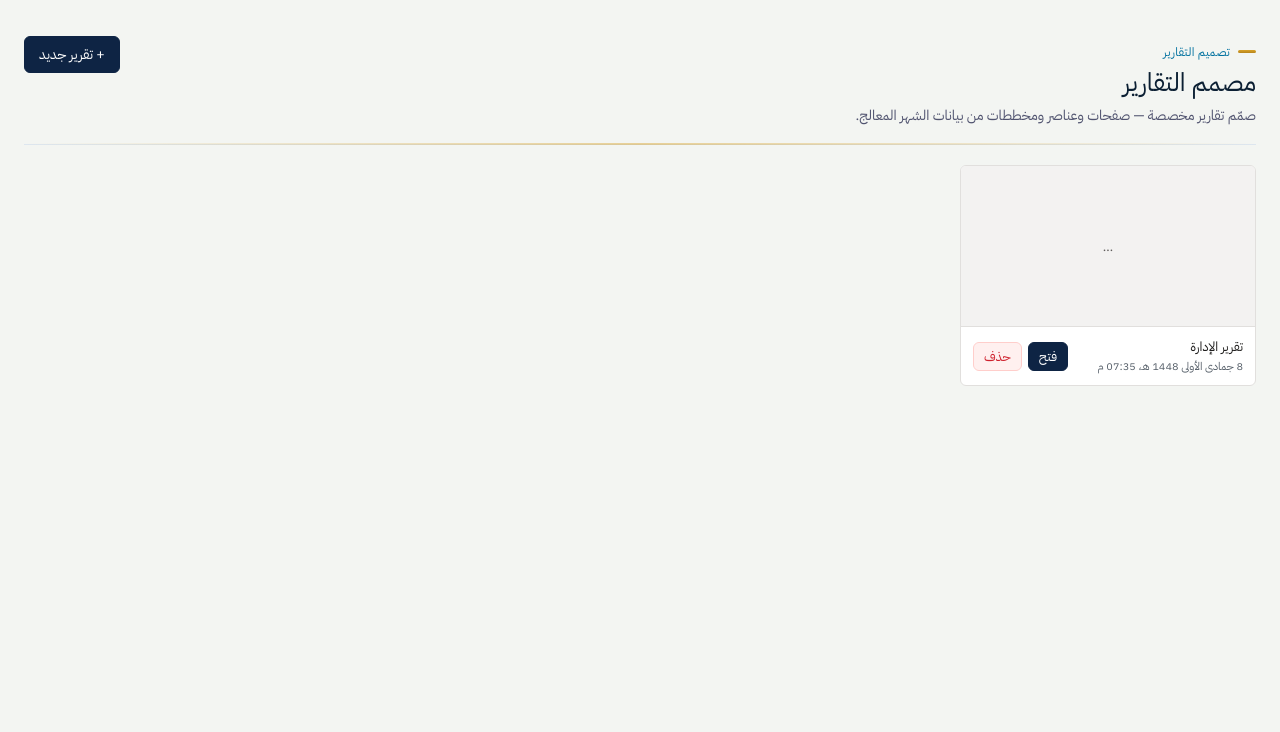
ReportDesigner — B6 view vs edit gating › edit access (canEdit=true): create, delete, and save are all enabled
The width and height of the screenshot is (1280, 732).
expect the text "تقرير الإدارة" is shown: met, box [1190,337,1243,356]
expect the button "+ تقرير جديد" is enabled: met, box [24,36,120,73]
Click the button "فتح" at (1048, 356), box [1028,342,1068,371]
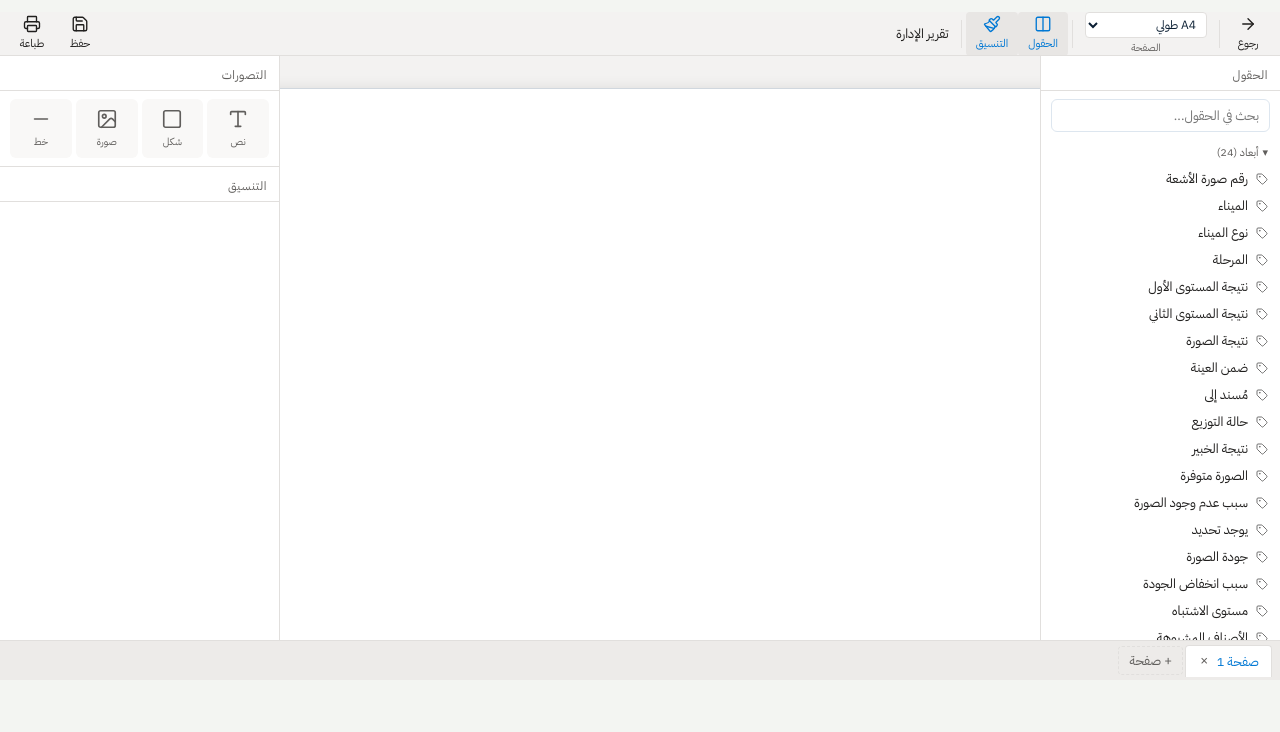
expect the button "حفظ" is enabled: met, box [56,12,104,56]
expect the button "+ صفحة" is enabled: met, box [1118,646,1183,675]
expect the button named "حذف صفحة 1" is shown: met, box [1200,650,1208,671]
